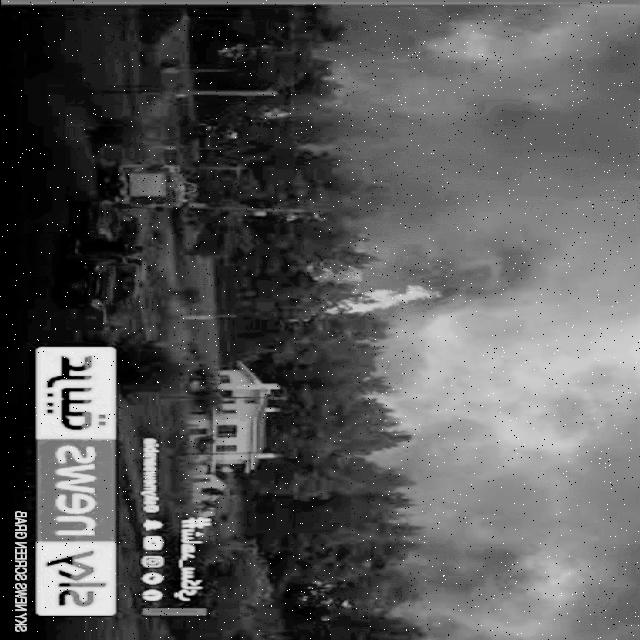api: (329, 283, 433, 315)
asap: (442, 18, 640, 640), (340, 10, 441, 276), (394, 321, 468, 639)
